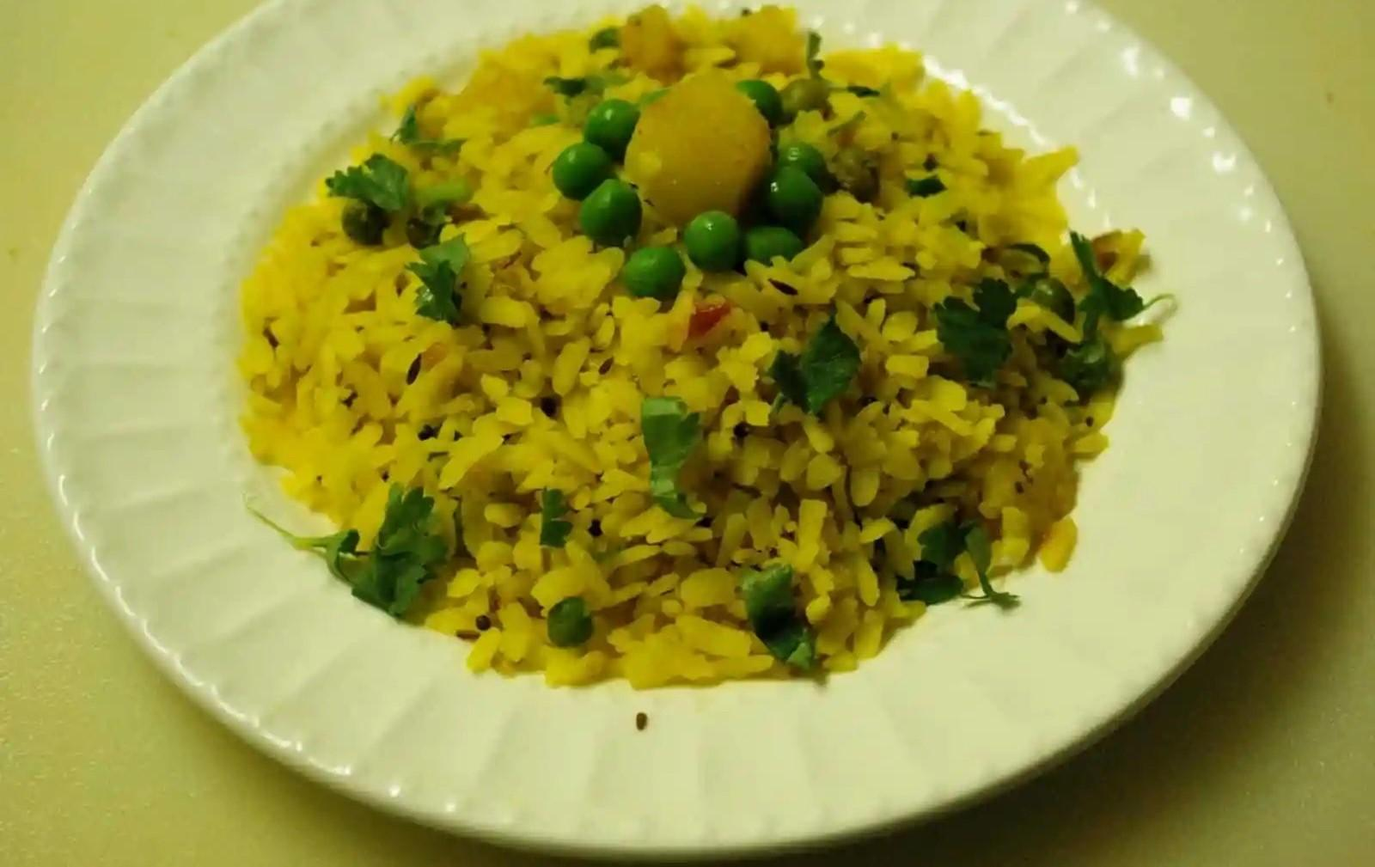Poha: (233, 0, 1168, 688)
